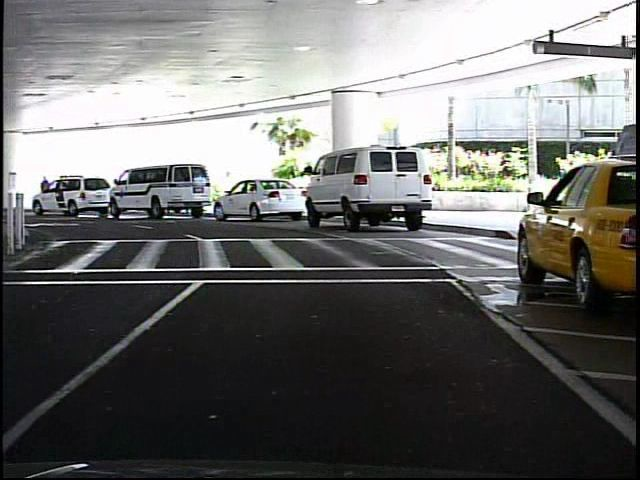person: (39, 172, 55, 210)
